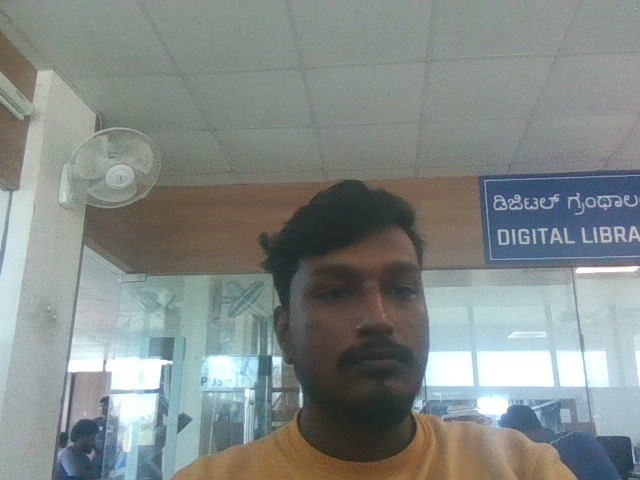real: (266, 158, 454, 424)
